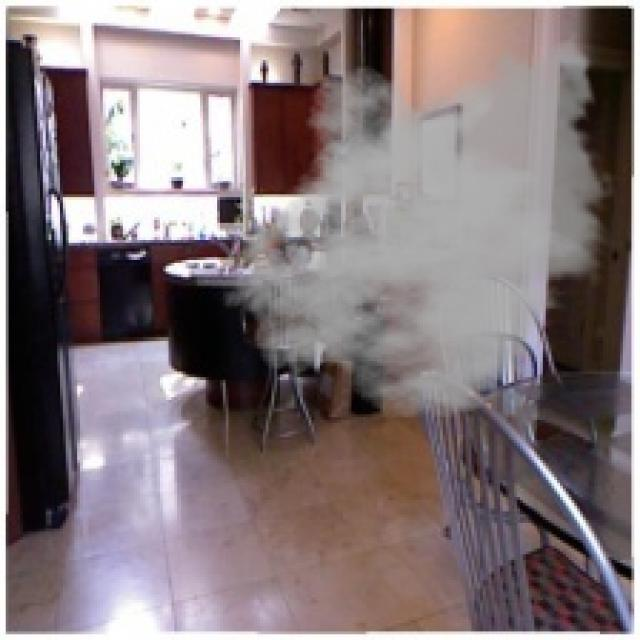smoke: (220, 26, 617, 420)
